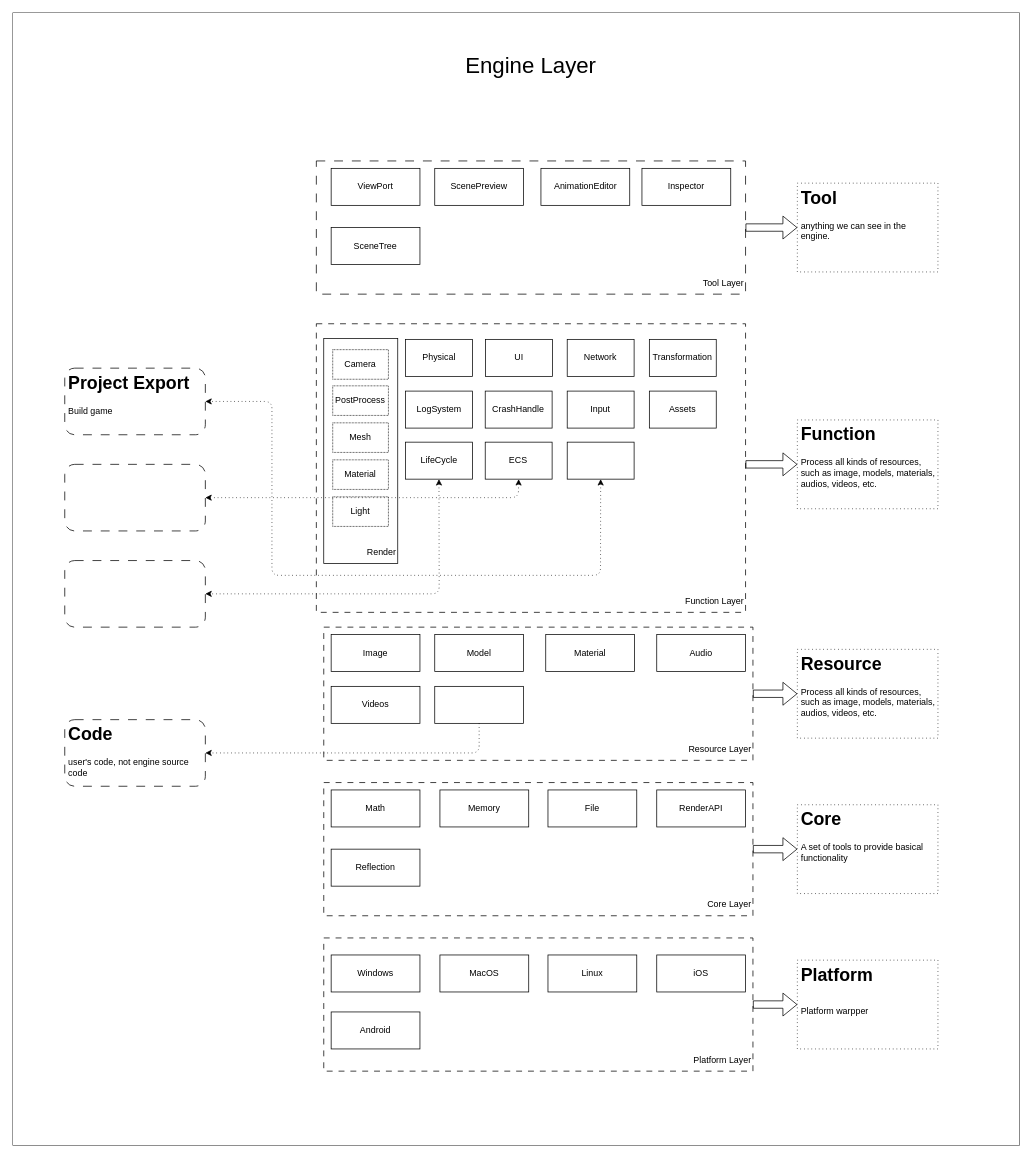
Some shapes in this 1032 by 1158 pixel diagram are drawn without their labels. The centre of each missing label's shape, as x and y in pixels:
"Code" goes at point 479,704.
"ECS Entity, Component, System" goes at point 134,497.
"LifeCycle Tick the world, logic => render" goes at point 134,593.
"ProjectBuild" goes at point 600,460.
